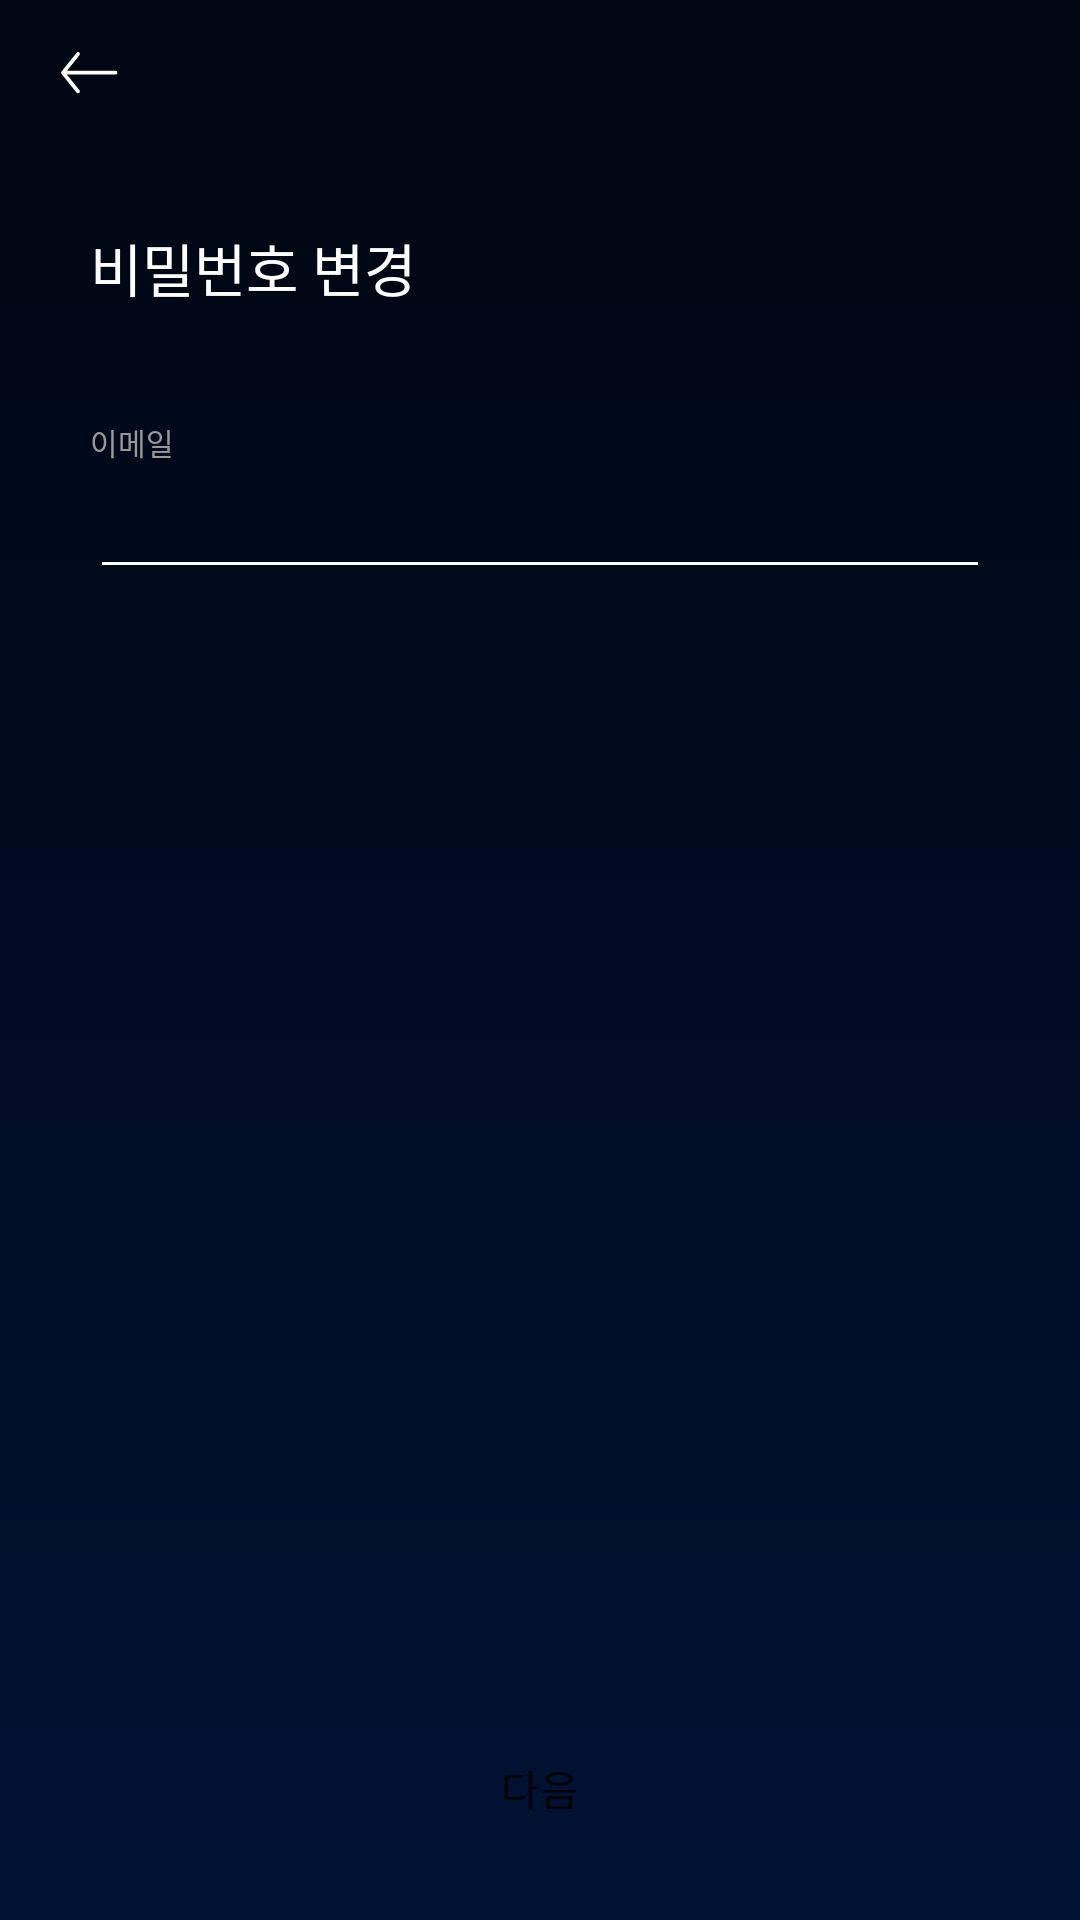

Icon bounding boxes for this 1080 × 1920 phone screenshot, format bbox=[x1, y1, x2, y2]:
back: bbox=[61, 52, 118, 94]
